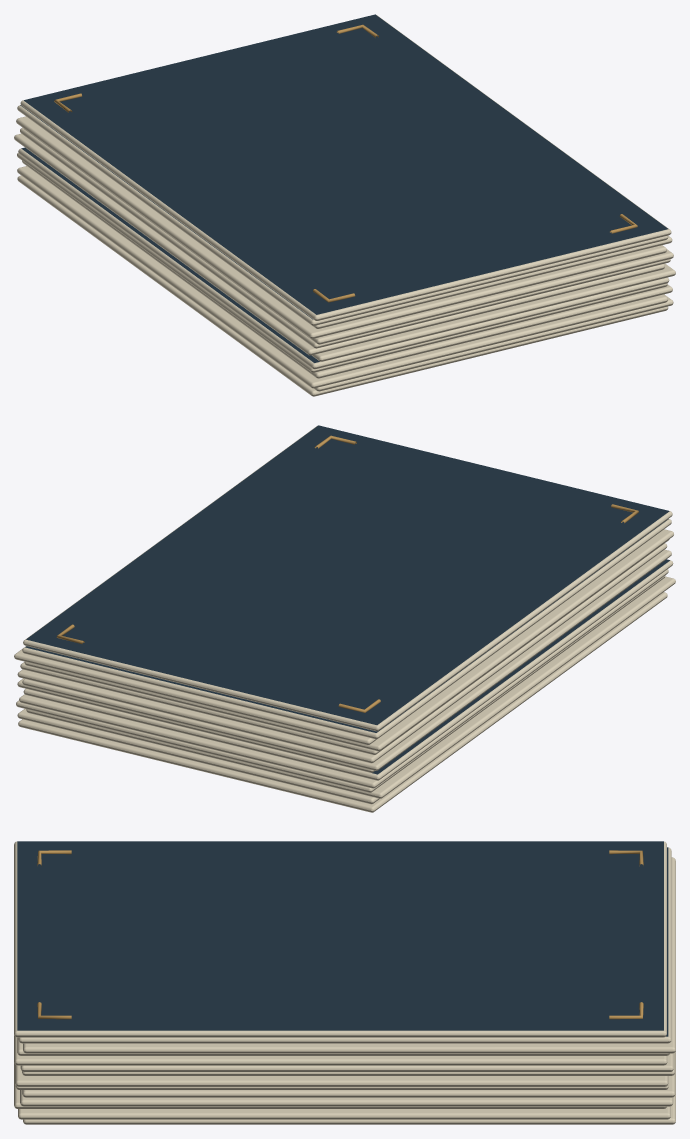
File: draw-deck-v1.glb
3 views of the same model, one above another, from view 1: azimuth 30°, elevation 25°; view 2: azimuth 150°, elevation 25°; view 3: azimuth 270°, elevation 25° (orthographic). The views are drawn at different scales.
Visible parts, largest first — view 1: DrawBack.002, CardStock.010, CardStock.002, CardStock.007, CardStock.013, CardStock.005, CardStock, CardStock.012, CardStock.003, CardStock.006, CardStock.008, CardStock.009 (+4 smaller); view 2: DrawBack.002, CardStock.007, CardStock.010, CardStock, CardStock.002, CardStock.008, CardStock.013, CardStock.004, CardStock.012, CardStock.005, CardStock.011, CardStock.001 (+5 smaller); view 3: DrawBack.002, CardStock.011, CardStock.006, CardStock.001, CardStock.009, CardStock.003, CardStock.013, CardStock.004, CardStock.012, CardStock.008, CardStock, CardStock.007 (+3 smaller).
Boxes of the visible parts, x1,y1,x2,y2 form: DrawBack.002: (24,14,667,314); CardStock.010: (16,116,666,338); CardStock.002: (17,166,667,388); CardStock.007: (14,133,664,355); CardStock.013: (20,15,671,320); CardStock.005: (18,148,669,369); CardStock: (17,175,668,396); CardStock.012: (17,105,667,325); CardStock.003: (22,160,672,378); CardStock.006: (312,263,675,361); CardStock.008: (20,127,670,348); CardStock.009: (23,128,673,344); DrawBack.002: (26,425,669,724); CardStock.007: (22,549,671,770); CardStock.010: (24,529,673,751); CardStock: (18,592,667,812); CardStock.002: (26,576,675,798); CardStock.008: (17,543,667,763); CardStock.013: (23,426,672,731); CardStock.004: (19,569,668,788); CardStock.012: (22,519,671,739); CardStock.005: (23,560,673,780); CardStock.011: (14,649,376,745); CardStock.001: (17,709,379,804); DrawBack.002: (17,841,663,1030); CardStock.011: (23,857,675,1053); CardStock.006: (15,1064,668,1086); CardStock.001: (18,1106,670,1119); CardStock.009: (14,1036,667,1065); CardStock.003: (20,1090,673,1106); CardStock.013: (14,841,666,1037); CardStock.004: (22,1052,675,1097); CardStock.012: (18,847,671,1043); CardStock.008: (20,1053,673,1071); CardStock: (23,1050,675,1124); CardStock.007: (22,1052,674,1075).
Size of the model in its own units: 1.45 by 0.332 by 2.07.
